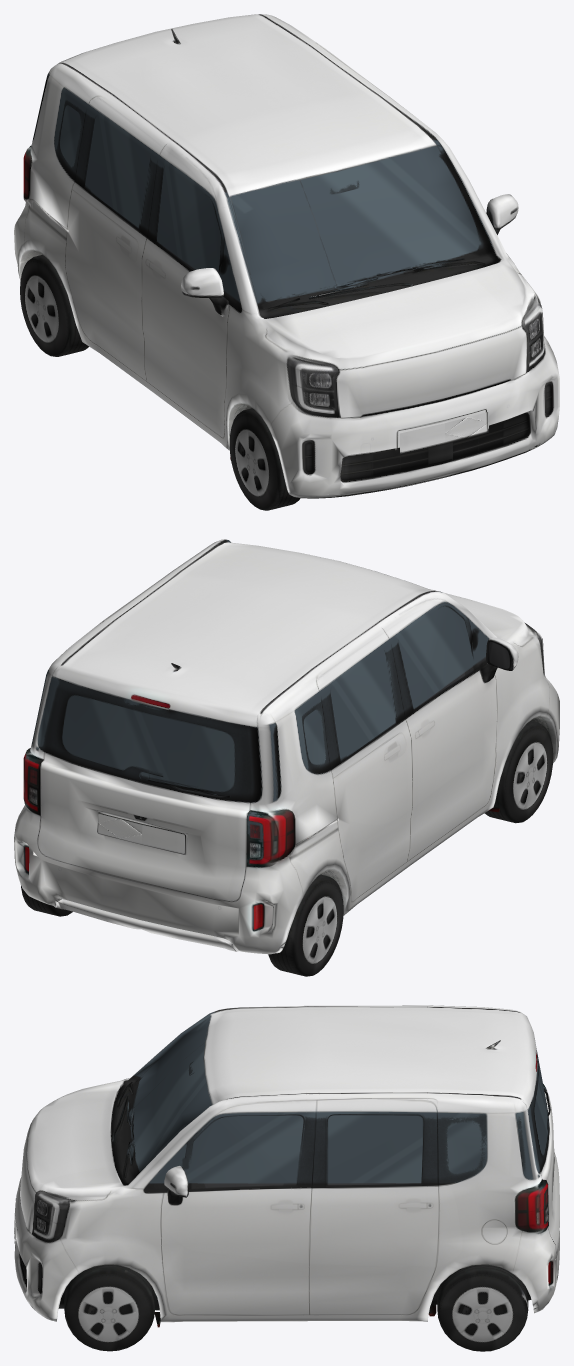
The model's file is model-painted-glass.glb.
3 views of the same model, one above another, from view 1: azimuth 30°, elevation 25°; view 2: azimuth 150°, elevation 25°; view 3: azimuth 270°, elevation 25° (orthographic). The views are drawn at different scales.
Visible parts, largest first — view 1: tripo_node_c7bd52c8-4662-4a28-b545-ef983f02e31b; view 2: tripo_node_c7bd52c8-4662-4a28-b545-ef983f02e31b; view 3: tripo_node_c7bd52c8-4662-4a28-b545-ef983f02e31b.
Boxes of the visible parts, left/top/right/bottom form: tripo_node_c7bd52c8-4662-4a28-b545-ef983f02e31b: left=14, top=14, right=559, bottom=510; tripo_node_c7bd52c8-4662-4a28-b545-ef983f02e31b: left=14, top=539, right=559, bottom=976; tripo_node_c7bd52c8-4662-4a28-b545-ef983f02e31b: left=14, top=1005, right=559, bottom=1351.
Size of the model in its own units: 0.6274 by 0.5112 by 0.9995.
1 material, 1 textured.
